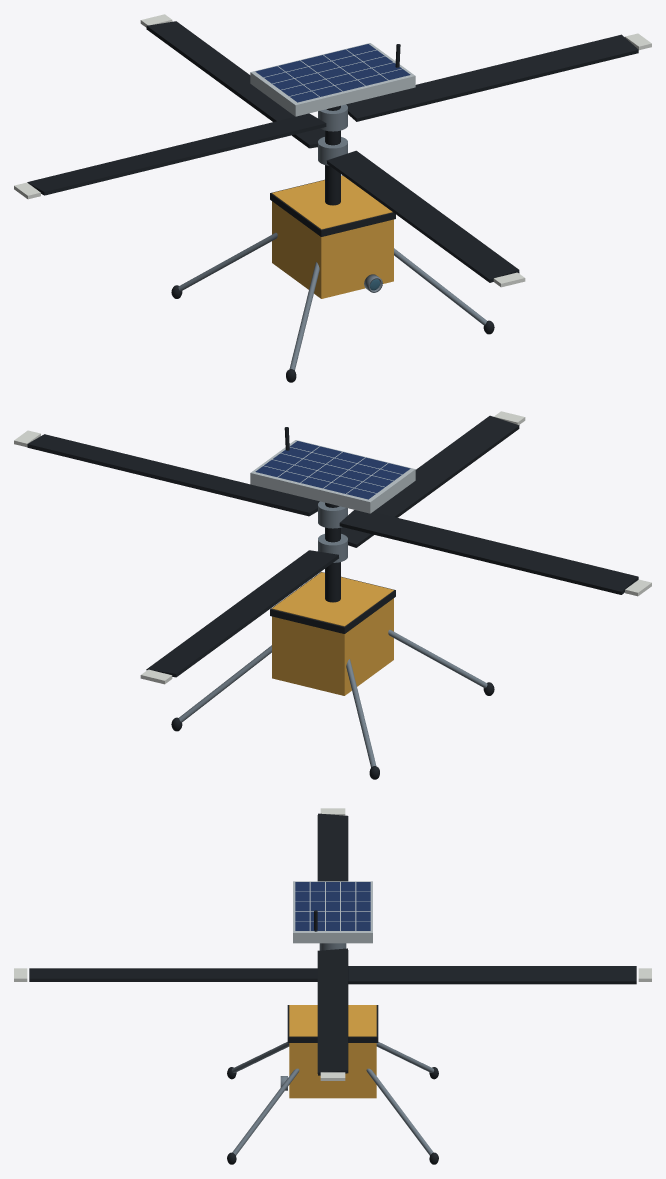
Rendered from ingenuity_rotorcraft.glb.
The picture shows the model from 3 angles, top to bottom: view 1: azimuth 30°, elevation 25°; view 2: azimuth 150°, elevation 25°; view 3: azimuth 270°, elevation 25°; orthographic projection. The views are drawn at different scales.
Visible parts, largest first — view 1: ingenuityelectronicsmesh_Gold_thermal_insulation, ingenuityrotor_02blade_bmesh_Carbon_composite, ingenuityrotor_01blade_bmesh_Carbon_composite, ingenuityrotor_02blade_amesh_Carbon_composite, ingenuitysolar_panelmesh_Indigo_solar_cells, ingenuityrotor_01blade_amesh_Carbon_composite, ingenuitysolar_panelmesh_Satin_aluminum, ingenuityelectronicsmesh_Carbon_composite, ingenuitymesh_Carbon_composite, ingenuityleg_01mesh_Machined_steel, ingenuityleg_03mesh_Machined_steel, ingenuityleg_04mesh_Machined_steel (+2 smaller); view 2: ingenuityelectronicsmesh_Gold_thermal_insulation, ingenuityrotor_02blade_amesh_Carbon_composite, ingenuityrotor_02blade_bmesh_Carbon_composite, ingenuityrotor_01blade_amesh_Carbon_composite, ingenuitysolar_panelmesh_Indigo_solar_cells, ingenuityrotor_01blade_bmesh_Carbon_composite, ingenuitysolar_panelmesh_Satin_aluminum, ingenuityelectronicsmesh_Carbon_composite, ingenuitymesh_Carbon_composite, ingenuityleg_02mesh_Machined_steel, ingenuityleg_04mesh_Machined_steel, ingenuityleg_03mesh_Machined_steel (+2 smaller); view 3: ingenuityelectronicsmesh_Gold_thermal_insulation, ingenuityrotor_01blade_amesh_Carbon_composite, ingenuityrotor_01blade_bmesh_Carbon_composite, ingenuityrotor_02blade_bmesh_Carbon_composite, ingenuitysolar_panelmesh_Indigo_solar_cells, ingenuityrotor_02blade_amesh_Carbon_composite, ingenuitysolar_panelmesh_Satin_aluminum, ingenuityelectronicsmesh_Carbon_composite, ingenuityleg_01mesh_Machined_steel, ingenuityleg_02mesh_Machined_steel.
Boxes of the visible parts, x1,y1,x2,y2 form: ingenuityelectronicsmesh_Gold_thermal_insulation: [272, 175, 393, 298]; ingenuityrotor_02blade_bmesh_Carbon_composite: [346, 34, 638, 121]; ingenuityrotor_01blade_bmesh_Carbon_composite: [326, 150, 519, 282]; ingenuityrotor_02blade_amesh_Carbon_composite: [27, 113, 326, 195]; ingenuitysolar_panelmesh_Indigo_solar_cells: [255, 44, 410, 102]; ingenuityrotor_01blade_amesh_Carbon_composite: [146, 21, 324, 148]; ingenuitysolar_panelmesh_Satin_aluminum: [250, 43, 415, 116]; ingenuityelectronicsmesh_Carbon_composite: [270, 175, 395, 236]; ingenuitymesh_Carbon_composite: [325, 105, 340, 205]; ingenuityleg_01mesh_Machined_steel: [394, 248, 486, 325]; ingenuityleg_03mesh_Machined_steel: [178, 232, 277, 291]; ingenuityleg_04mesh_Machined_steel: [289, 262, 319, 370]; ingenuityelectronicsmesh_Gold_thermal_insulation: [272, 572, 393, 695]; ingenuityrotor_02blade_amesh_Carbon_composite: [339, 510, 638, 594]; ingenuityrotor_02blade_bmesh_Carbon_composite: [27, 434, 319, 516]; ingenuityrotor_01blade_amesh_Carbon_composite: [146, 550, 338, 677]; ingenuitysolar_panelmesh_Indigo_solar_cells: [255, 441, 410, 499]; ingenuityrotor_01blade_bmesh_Carbon_composite: [341, 415, 519, 547]; ingenuitysolar_panelmesh_Satin_aluminum: [250, 440, 415, 513]; ingenuityelectronicsmesh_Carbon_composite: [270, 572, 395, 633]; ingenuitymesh_Carbon_composite: [325, 502, 340, 602]; ingenuityleg_02mesh_Machined_steel: [179, 645, 271, 722]; ingenuityleg_04mesh_Machined_steel: [388, 629, 487, 688]; ingenuityleg_03mesh_Machined_steel: [346, 659, 376, 767]; ingenuityelectronicsmesh_Gold_thermal_insulation: [289, 1005, 376, 1098]; ingenuityrotor_01blade_amesh_Carbon_composite: [348, 966, 636, 984]; ingenuityrotor_01blade_bmesh_Carbon_composite: [29, 968, 317, 981]; ingenuityrotor_02blade_bmesh_Carbon_composite: [317, 948, 348, 1075]; ingenuitysolar_panelmesh_Indigo_solar_cells: [295, 882, 370, 930]; ingenuityrotor_02blade_amesh_Carbon_composite: [317, 813, 348, 881]; ingenuitysolar_panelmesh_Satin_aluminum: [293, 881, 372, 943]; ingenuityelectronicsmesh_Carbon_composite: [287, 1005, 378, 1042]; ingenuityleg_01mesh_Machined_steel: [232, 1068, 299, 1155]; ingenuityleg_02mesh_Machined_steel: [366, 1068, 433, 1155].
Size of the model in its own units: 1.19 by 0.4852 by 1.19.
